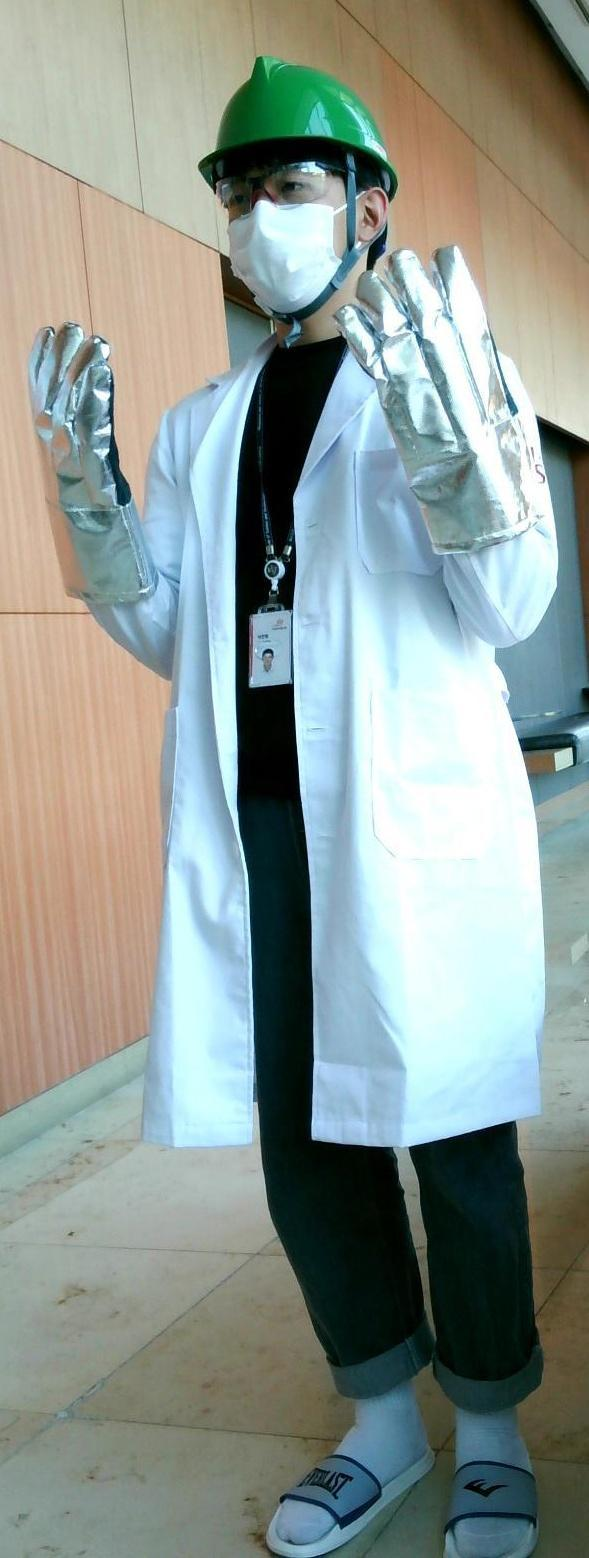lab_coat: (167, 404, 417, 1124)
